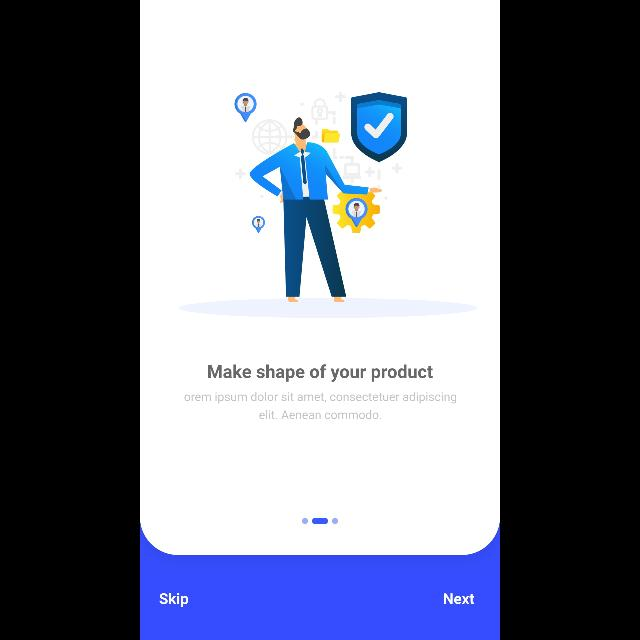image: (179, 92, 477, 318)
pageindicator: (302, 518, 338, 524)
text: (184, 392, 456, 420), (208, 364, 432, 382), (160, 592, 188, 608), (444, 594, 474, 604)
